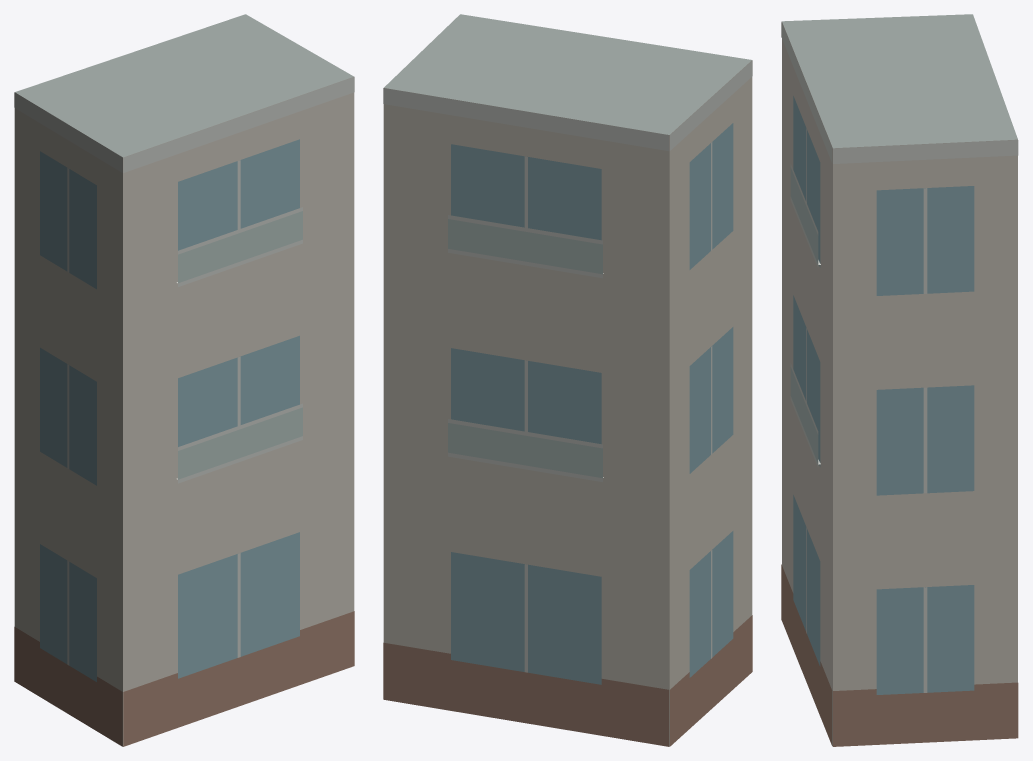
File: survey-upis-33044090.glb
3 views of the same model, side by side, from view 1: azimuth 30°, elevation 25°; view 2: azimuth 150°, elevation 25°; view 3: azimuth 270°, elevation 25° (orthographic). The views are drawn at different scales.
Parts seen in each view (by area): view 1: survey-upis-33044090.tmp; view 2: survey-upis-33044090.tmp; view 3: survey-upis-33044090.tmp.
Part boxes in pixels (x1,y1,x2,y2): survey-upis-33044090.tmp: (14, 14, 354, 746); survey-upis-33044090.tmp: (383, 14, 752, 746); survey-upis-33044090.tmp: (781, 14, 1018, 746).
Size of the model in its own units: 4.41 by 9.15 by 3.29.
